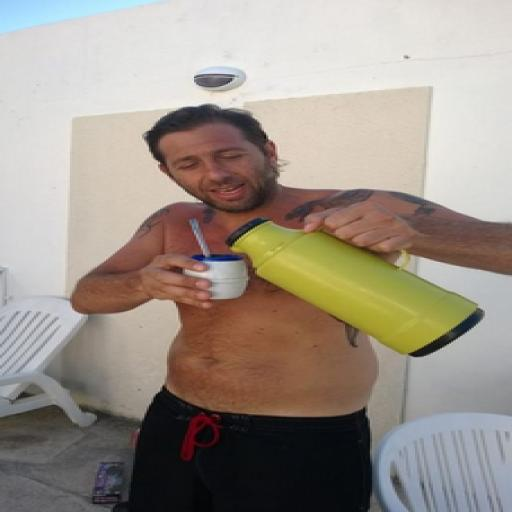mate: (183, 255, 248, 300)
termo: (226, 219, 484, 357)
